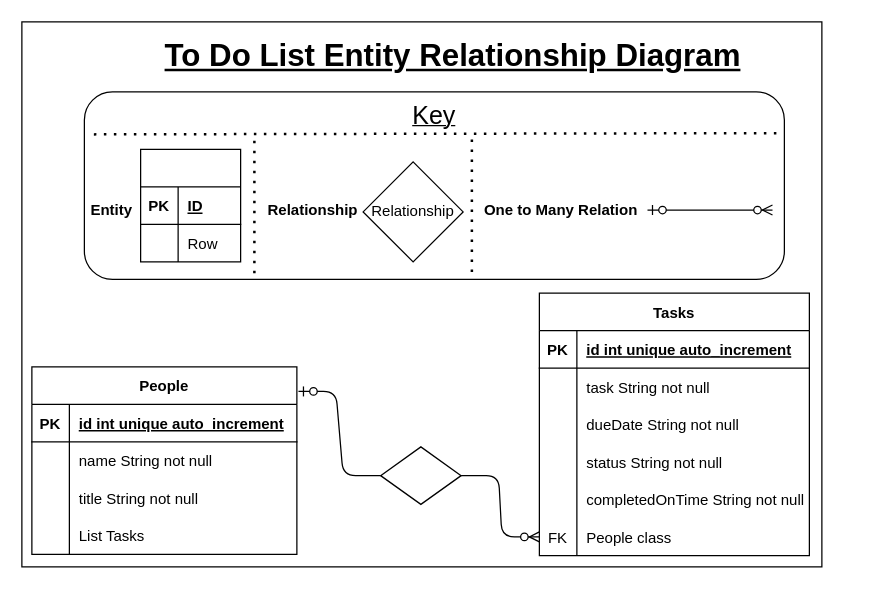
Some shapes in this 894 by 589 pixel diagram are drawn without their labels. Each missing label, with the box of its shape:
Has: (379, 446, 461, 504)
Table: (139, 148, 241, 262)
